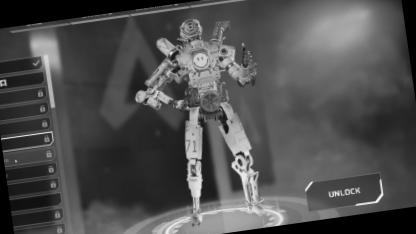Target: (169, 13, 244, 172)
